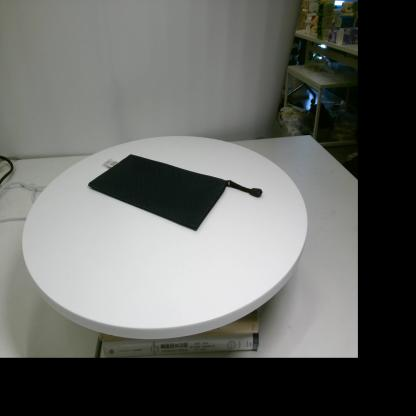Stationery: (88, 154, 263, 230)
